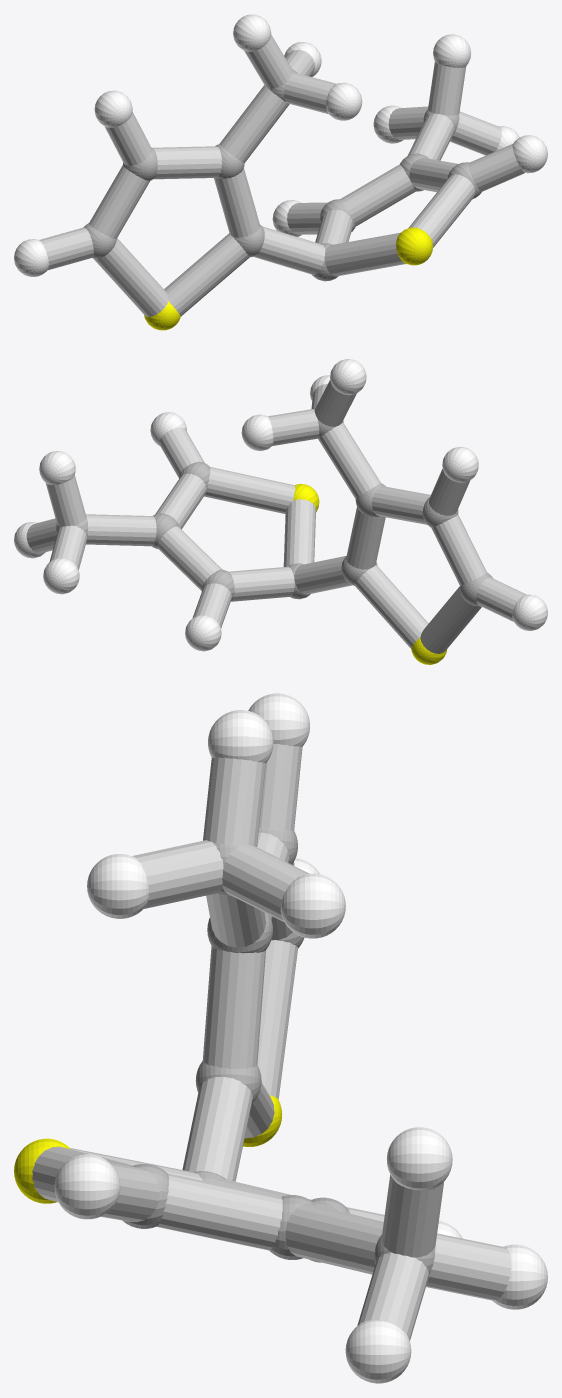
The model's file is Methylthiophene_Phi_50_Theta_80_Methylthiophene.glb.
The picture shows the model from 3 angles, top to bottom: view 1: azimuth 30°, elevation 25°; view 2: azimuth 150°, elevation 25°; view 3: azimuth 270°, elevation 25°; orthographic projection. The views are drawn at different scales.
Parts seen in each view (by area): view 1: grp7965, grp3621, grp1, grp7241; view 2: grp7965, grp3621, grp1, grp7241; view 3: grp7965, grp3621, grp1, grp7241.
Boxes of the visible parts, left/top/right/bottom form: grp7965: left=39, top=34, right=524, bottom=316; grp3621: left=14, top=14, right=547, bottom=276; grp1: left=83, top=69, right=481, bottom=281; grp7241: left=144, top=227, right=432, bottom=330; grp7965: left=26, top=380, right=526, bottom=653; grp3621: left=14, top=359, right=547, bottom=651; grp1: left=56, top=407, right=492, bottom=606; grp7241: left=293, top=484, right=446, bottom=664; grp7965: left=32, top=744, right=511, bottom=1340; grp3621: left=54, top=693, right=547, bottom=1383; grp1: left=122, top=828, right=435, bottom=1274; grp7241: left=14, top=1095, right=282, bottom=1203.
Size of the model in its own units: 9.57 by 5.08 by 4.87.
